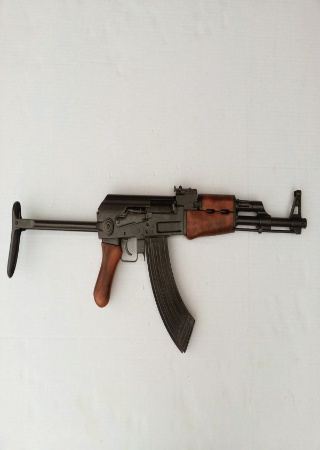rifle: (2, 174, 310, 356)
